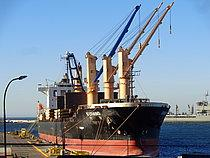Ship: (15, 1, 179, 158)
